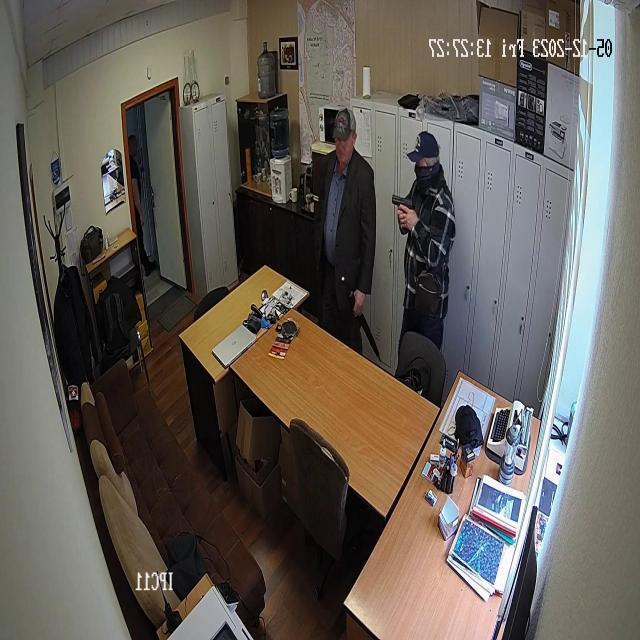pistol: (392, 190, 414, 215)
